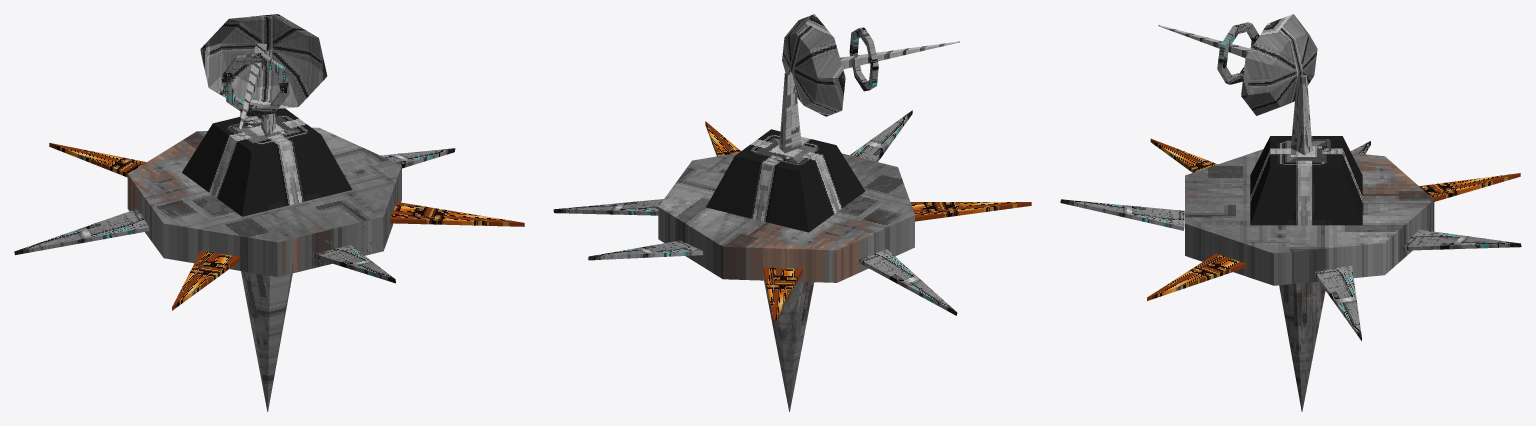
The model's file is fild.obj.
3 views of the same model, side by side, from view 1: azimuth 30°, elevation 25°; view 2: azimuth 150°, elevation 25°; view 3: azimuth 270°, elevation 25° (orthographic). The views are drawn at different scales.
Bounding box in the file's own units: 24.65 × 22.32 × 24.28.
8 materials, 8 textured.
